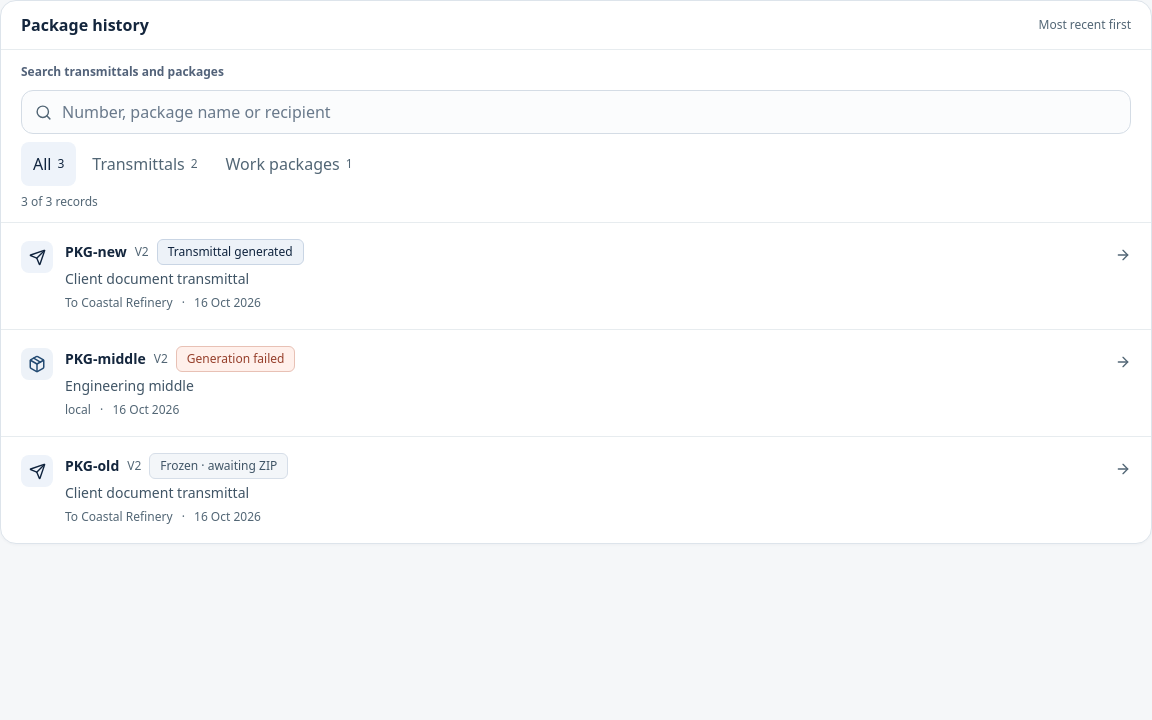
combines category and search, offers clear state, and preserves data
The width and height of the screenshot is (1152, 720).
Click the button "Transmittals 2".
click(145, 164)  # box 80,142 -> 210,186
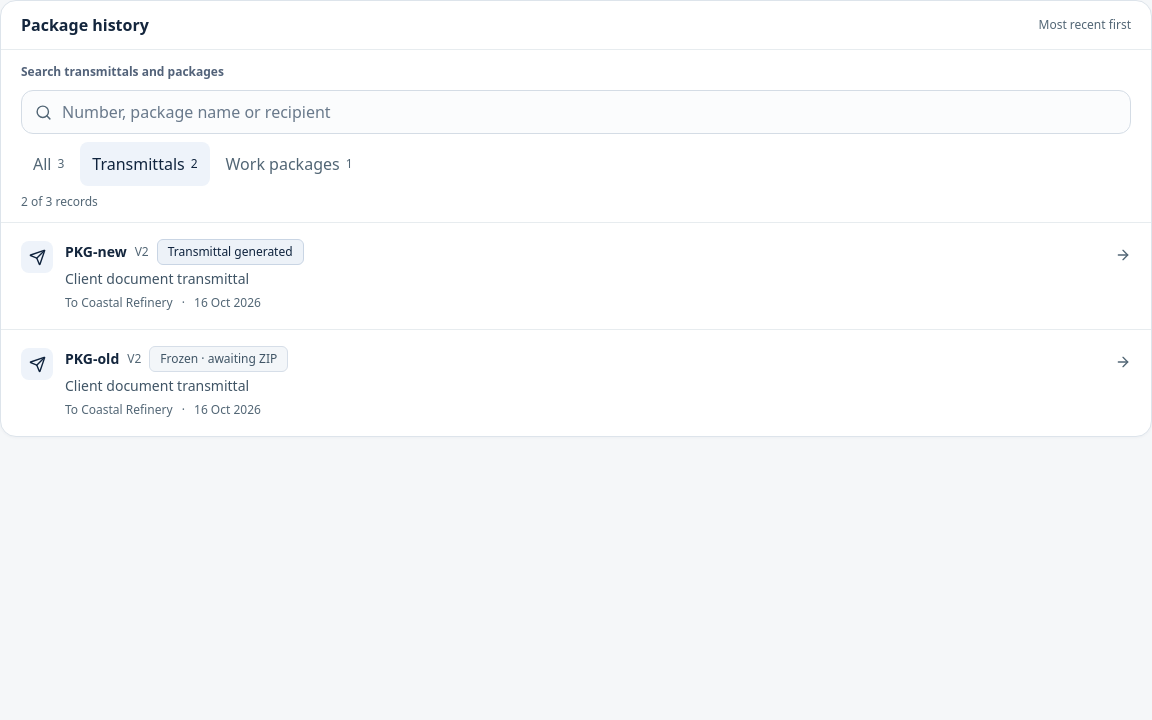
Expected: the number of links is 2, 1,223 -> 1151,329; 1,330 -> 1151,436
Type "middle" into the search field.
click(576, 112); type("middle")  # box 21,90 -> 1131,134
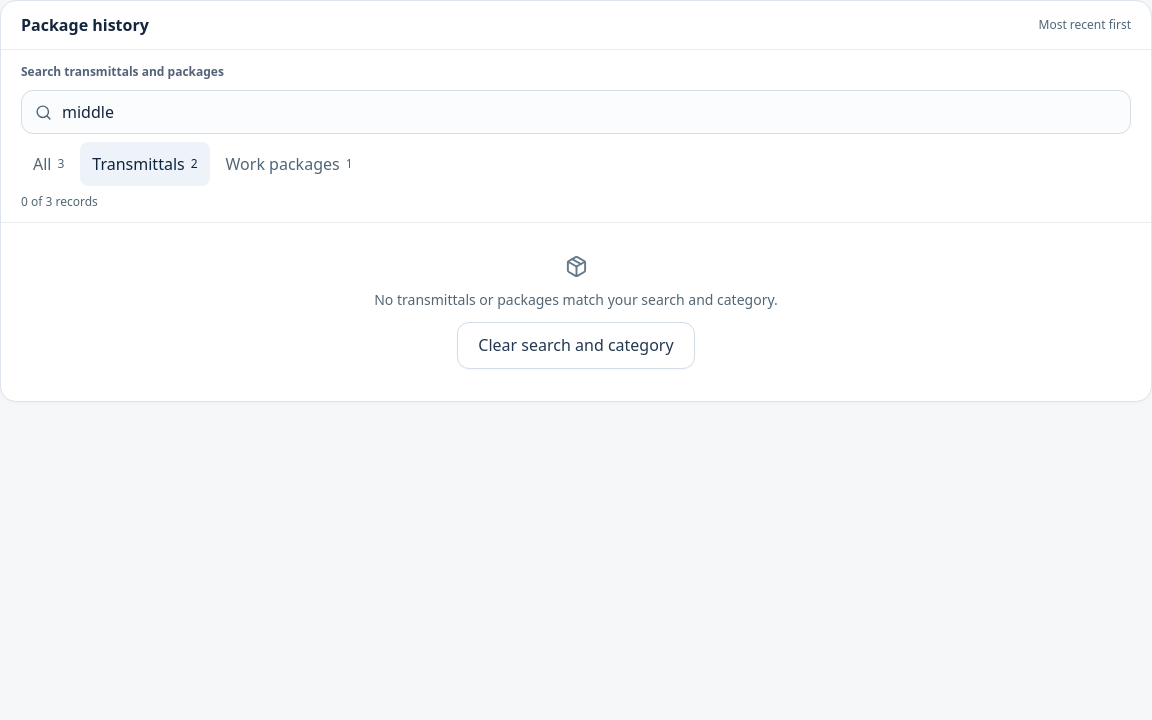
Expected: the link is gone
Expected: the message reads "0 of 3 records", 21,193 -> 98,210
Click the button "Clear search and category".
click(576, 345)  # box 457,322 -> 695,369
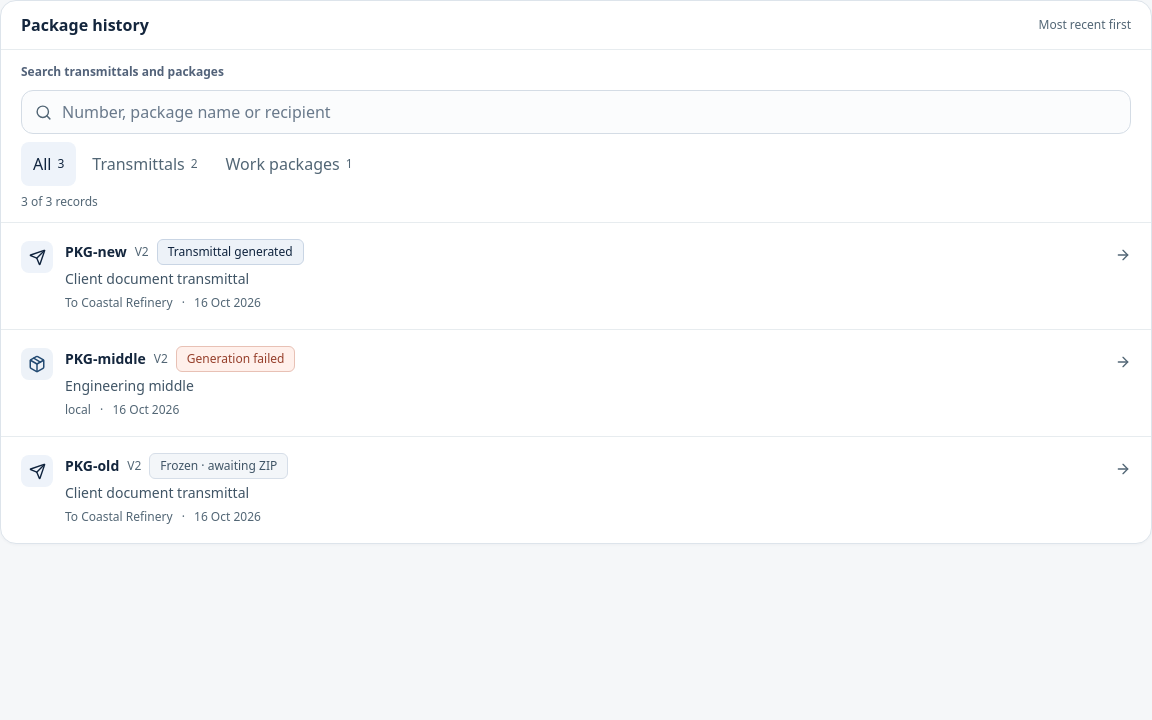
Expected: the number of links is 3, 1,223 -> 1151,329; 1,330 -> 1151,436; 1,437 -> 1151,543
